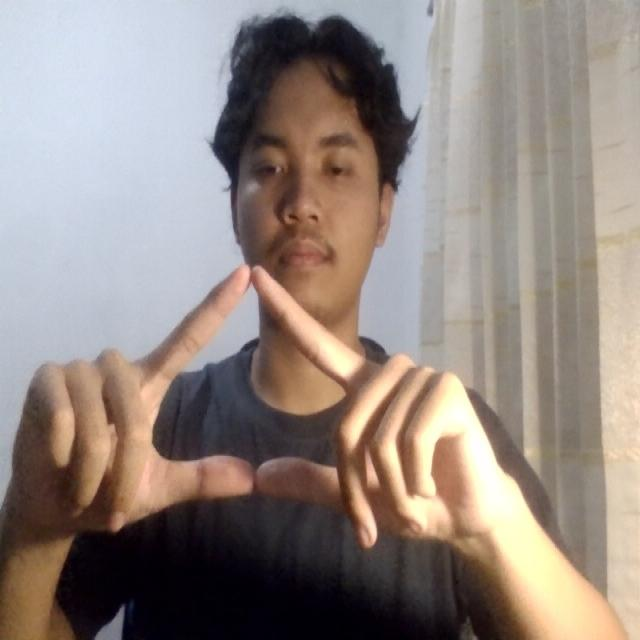A: (10, 248, 508, 556)
